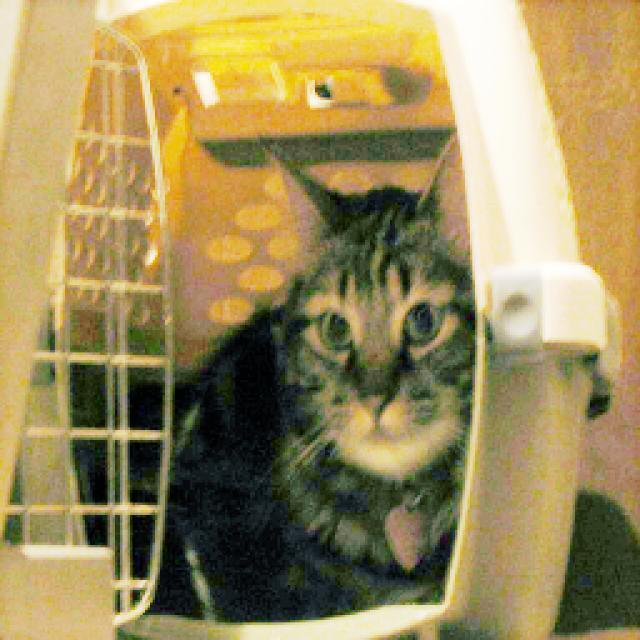cat: (128, 131, 502, 624)
